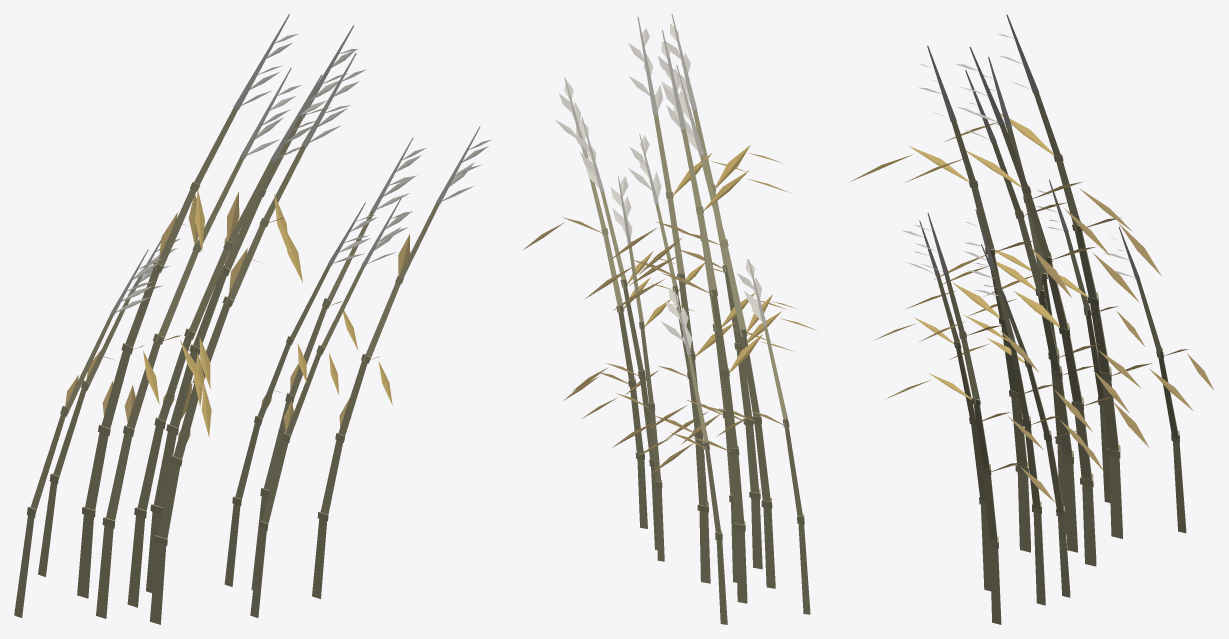
File: shui.luweidang@subadult__autumn.glb
The picture shows the model from 3 angles, left to right: view 1: azimuth 30°, elevation 25°; view 2: azimuth 150°, elevation 25°; view 3: azimuth 270°, elevation 25°; orthographic projection. The views are drawn at different scales.
Visible parts, largest first — view 1: shui.luweidang@subadult__autumn; view 2: shui.luweidang@subadult__autumn; view 3: shui.luweidang@subadult__autumn.
Boxes of the visible parts, bbox=[...] form: shui.luweidang@subadult__autumn: bbox=[14, 14, 491, 624]; shui.luweidang@subadult__autumn: bbox=[523, 14, 816, 624]; shui.luweidang@subadult__autumn: bbox=[850, 14, 1213, 624].
Size of the model in its own units: 1.65 by 2.41 by 1.34.
